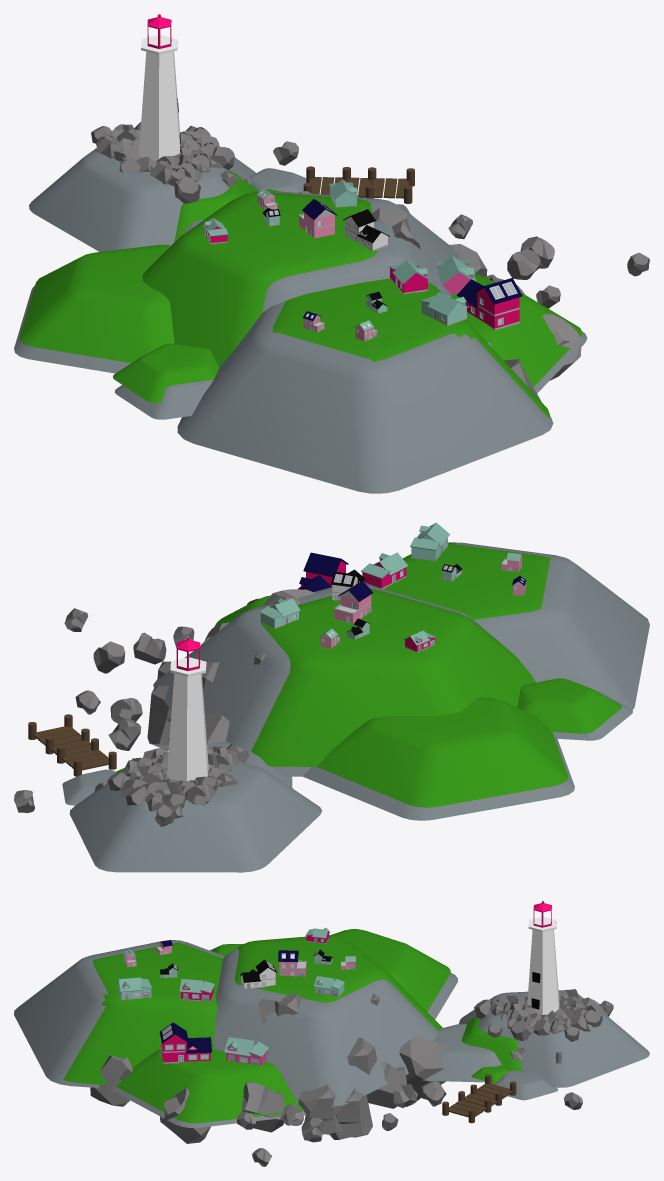
The model's file is Island6.glb.
The picture shows the model from 3 angles, top to bottom: view 1: azimuth 30°, elevation 25°; view 2: azimuth 150°, elevation 25°; view 3: azimuth 270°, elevation 25°; orthographic projection. The views are drawn at different scales.
Parts seen in each view (by area): view 1: Land, Land.003, Land.004, Land.002, Land.001, Cylinder, house_type03, Land.005, house_type03.001, house_type04.003, house_type18, house_type04 (+4 smaller); view 2: Land.003, Land.002, Land.001, Land, Land.004, Cylinder, house_type03, menhir_mini.053, house_type04.004, house_type18, house_type04.003, house_type04.001 (+6 smaller); view 3: Land.004, Land.001, Land.002, Land.003, Land, Cylinder, menhir_mini.050, Land.005, house_type03, menhir_mini.055, menhir_mini.053, menhir_mini.052 (+15 smaller).
Boxes of the visible parts, x1,y1,x2,y2 form: Land: (177,301,587,493); Land.003: (19,192,376,402); Land.004: (272,273,582,417); Land.002: (29,146,306,251); Land.001: (14,191,460,419); Cylinder: (138,51,181,161); house_type03: (457,278,522,330); Land.005: (174,170,280,240); house_type03.001: (343,209,389,251); house_type04.003: (420,292,469,325); house_type18: (299,199,336,238); house_type04: (435,256,476,294); Land.003: (251,588,621,807); Land.002: (62,741,321,872); Land.001: (153,585,632,820); Land: (449,542,649,709); Land.004: (214,542,551,627); Cylinder: (167,673,208,781); house_type03: (298,552,348,591); menhir_mini.053: (147,685,171,750); house_type04.004: (361,552,408,588); house_type18: (334,581,373,623); house_type04.003: (410,522,449,561); house_type04.001: (260,598,300,628); Land.004: (63,942,303,1123); Land.001: (211,948,457,1106); Land.002: (422,990,649,1100); Land.003: (210,929,450,1031); Land: (14,940,306,1127); Cylinder: (527,929,559,1015); menhir_mini.050: (399,1035,445,1106); Land.005: (462,1017,522,1083); house_type03: (159,1022,211,1063); menhir_mini.055: (237,1082,284,1132); menhir_mini.053: (329,1088,372,1139); menhir_mini.052: (298,1084,342,1134).
Bounding box in the file's own units: 27.47 × 10.96 × 34.33.
Materials: 21 (1 with a texture image).
